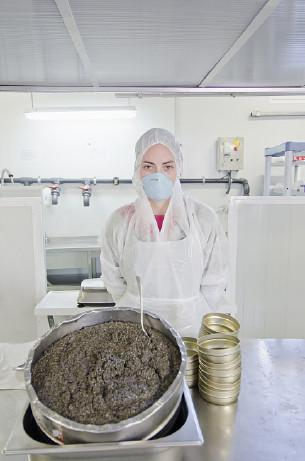OK: (135, 153, 185, 203)
